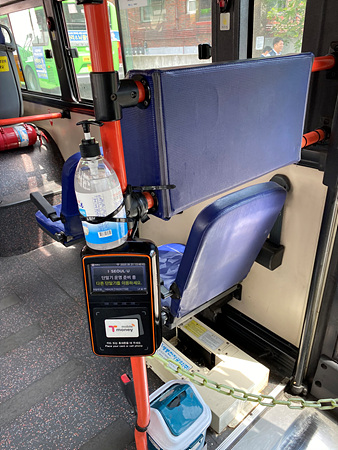terminal: (81, 242, 157, 358)
